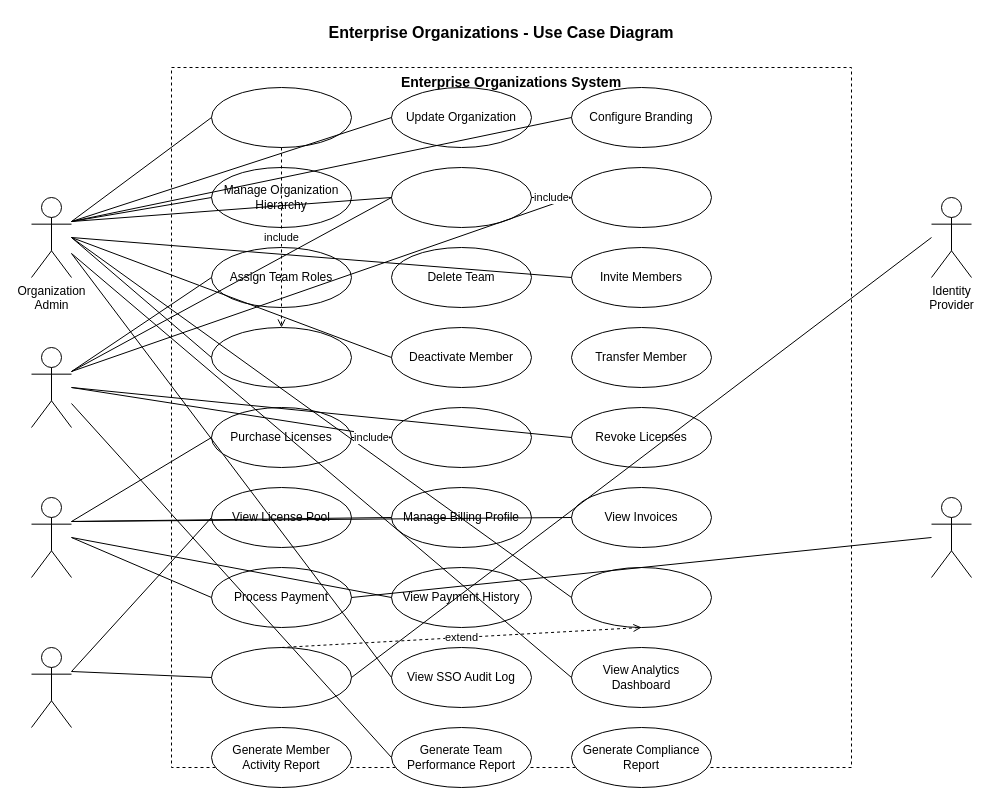
Some shapes in this 992 by 805 pixel diagram are drawn without their labels. The box of each missing label's shape, as (x1, y1, x2, y2) in pixels:
Allocate Licenses: (390, 406, 532, 468)
Assign Organization Roles: (210, 326, 352, 388)
Billing Admin: (30, 496, 72, 578)
Configure SSO: (570, 566, 712, 628)
Create Organization: (210, 86, 352, 148)
Create Team: (390, 166, 532, 228)
Manage Team Members: (570, 166, 712, 228)
Organization Member: (30, 646, 72, 728)
Payment Gateway: (930, 496, 972, 578)
SSO Authentication: (210, 646, 352, 708)
Team Manager: (30, 346, 72, 428)
